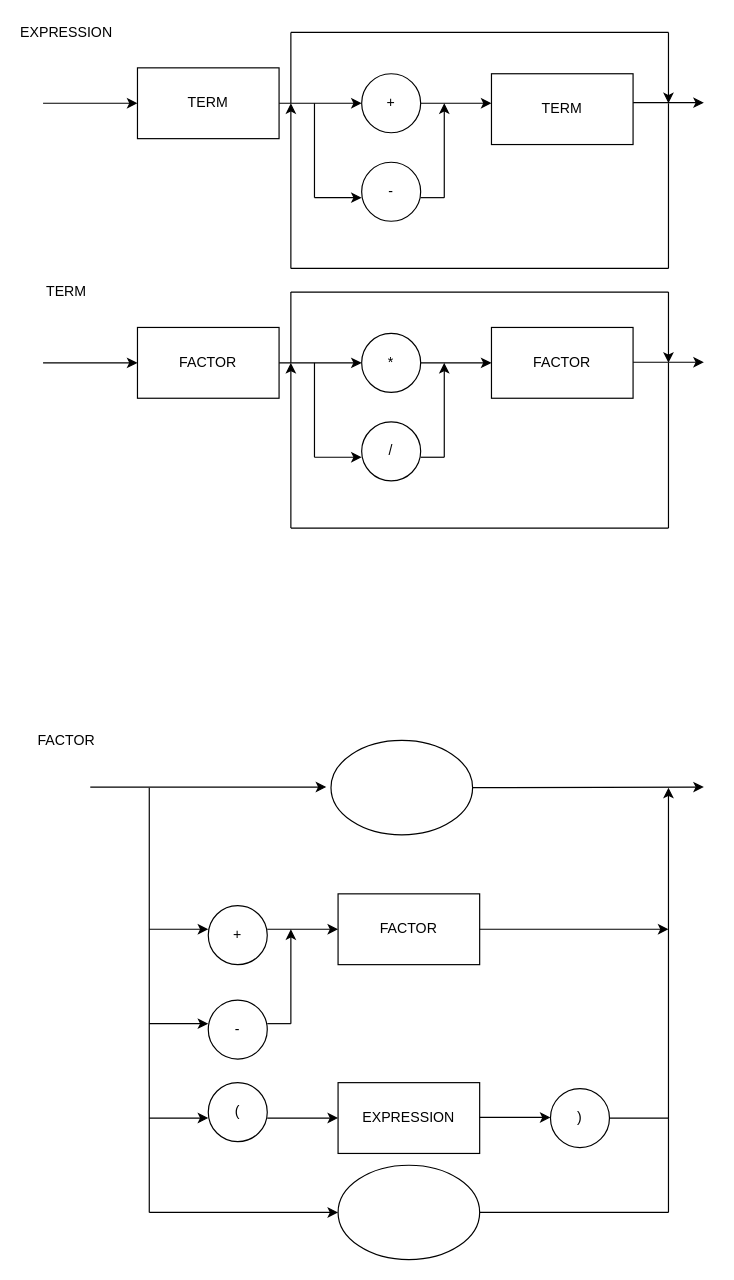
Image size: 734x1280. Some labels were removed from this diagram. The shapes that lost their labels are listed below. From the top down, each one's centre as x and y in pixels, then its label:
the point at 401,787: NUM
the point at 408,1212: IDENTIFIER
